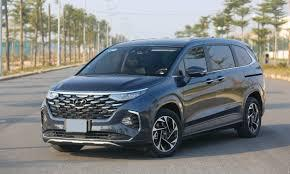hyundai: (70, 97, 90, 108)
